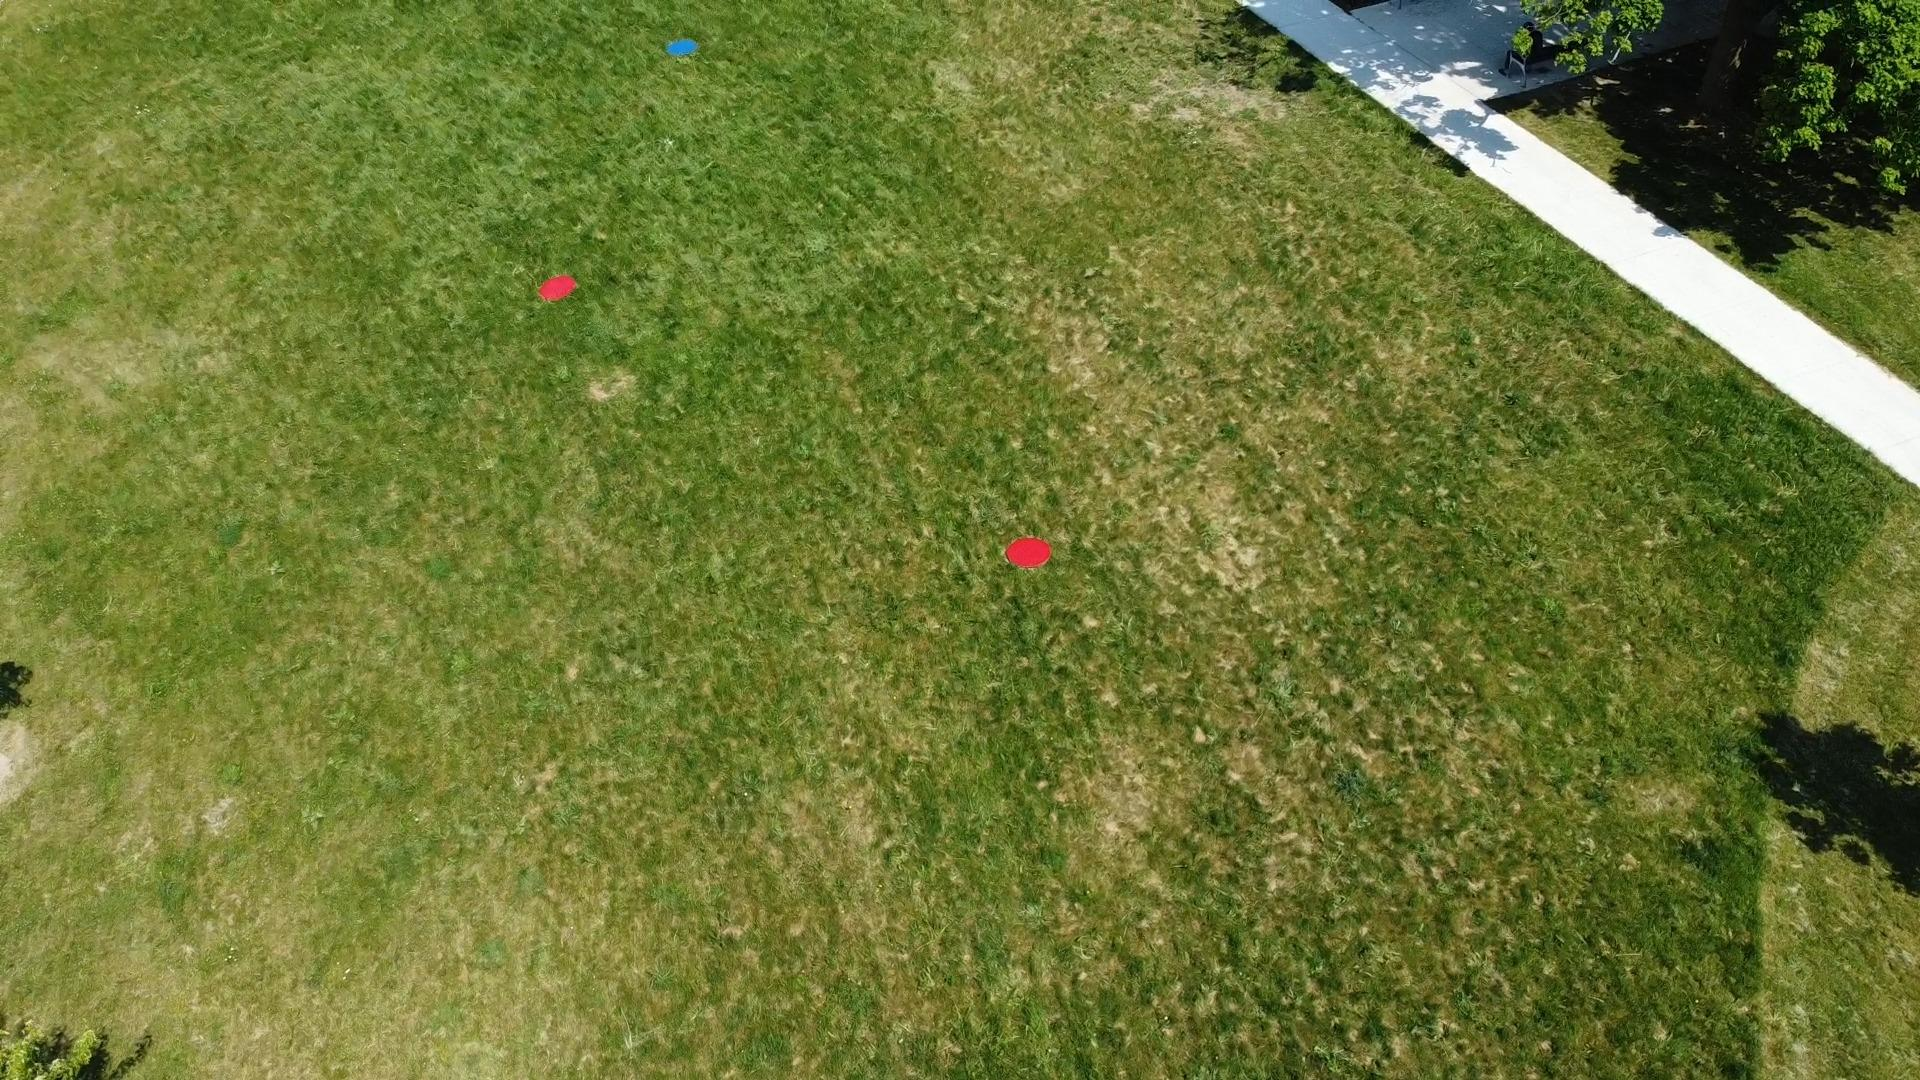Blue: (665, 37, 700, 57)
Red: (537, 276, 576, 302)
